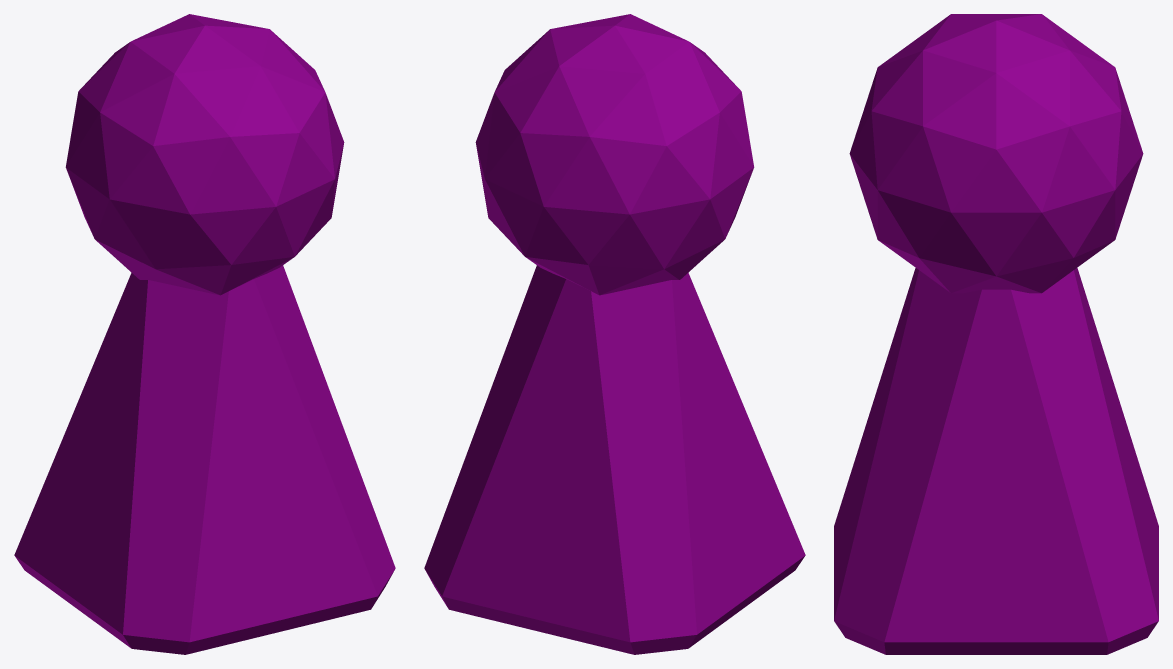
File: pawn.glb
The picture shows the model from 3 angles, left to right: view 1: azimuth 30°, elevation 25°; view 2: azimuth 150°, elevation 25°; view 3: azimuth 270°, elevation 25°; orthographic projection. The views are drawn at different scales.
Visible parts, largest first — view 1: Cube; view 2: Cube; view 3: Cube.
Boxes of the visible parts, x1=… form: Cube: x1=14, y1=14, x2=395, y2=654; Cube: x1=424, y1=14, x2=805, y2=654; Cube: x1=834, y1=14, x2=1158, y2=654.
Bounding box in the file's own units: 0.7743 × 1.5 × 0.7743.
